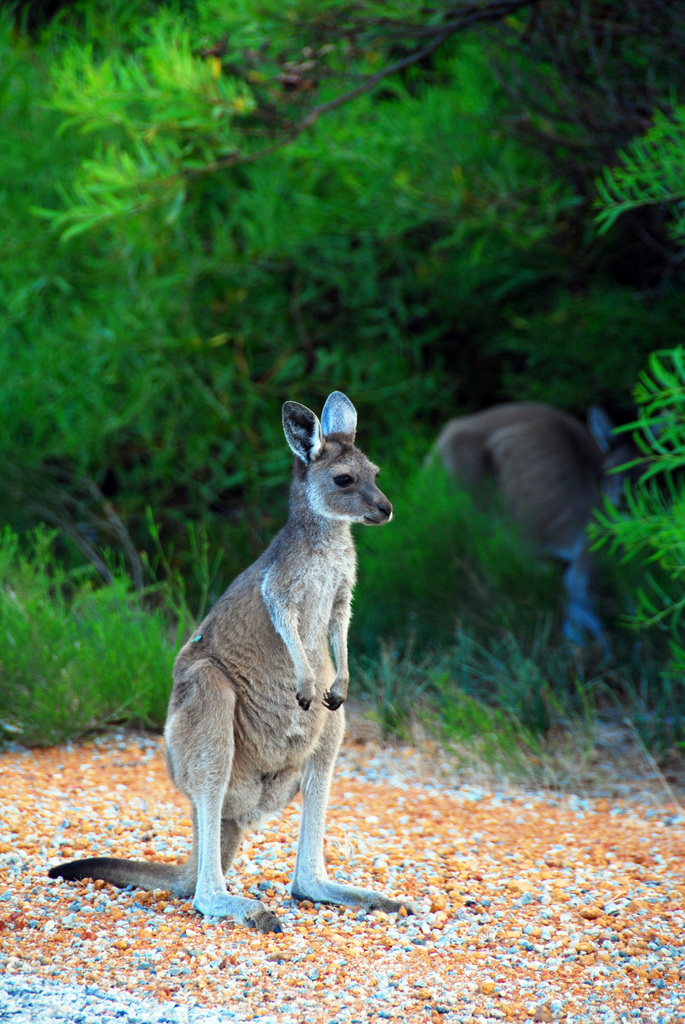kangaroo: (46, 393, 427, 929)
